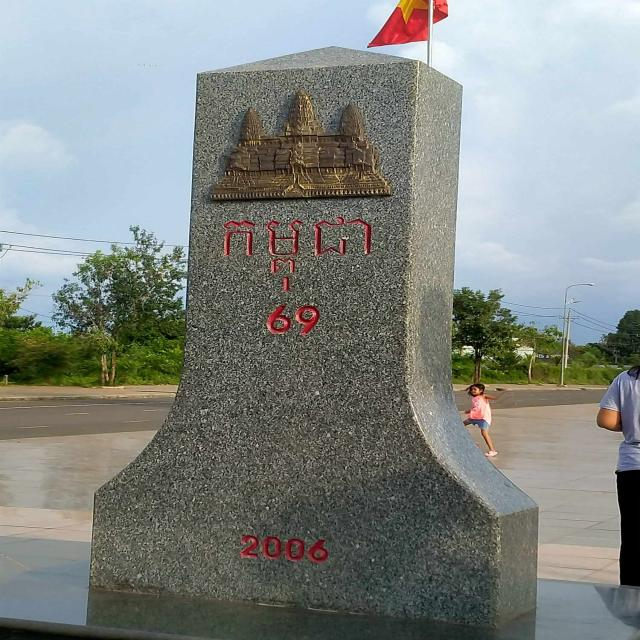645: (230, 532, 336, 569)
816: (265, 305, 325, 340)
Yolov11kh: (208, 212, 383, 297)
